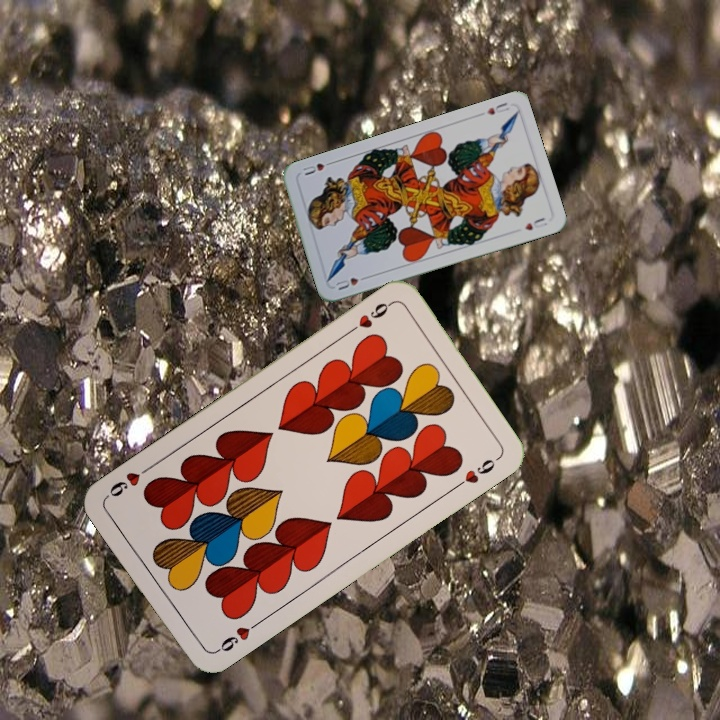H9: (344, 298, 396, 337), (210, 617, 262, 656)
HU: (332, 272, 371, 293), (483, 98, 511, 117)
